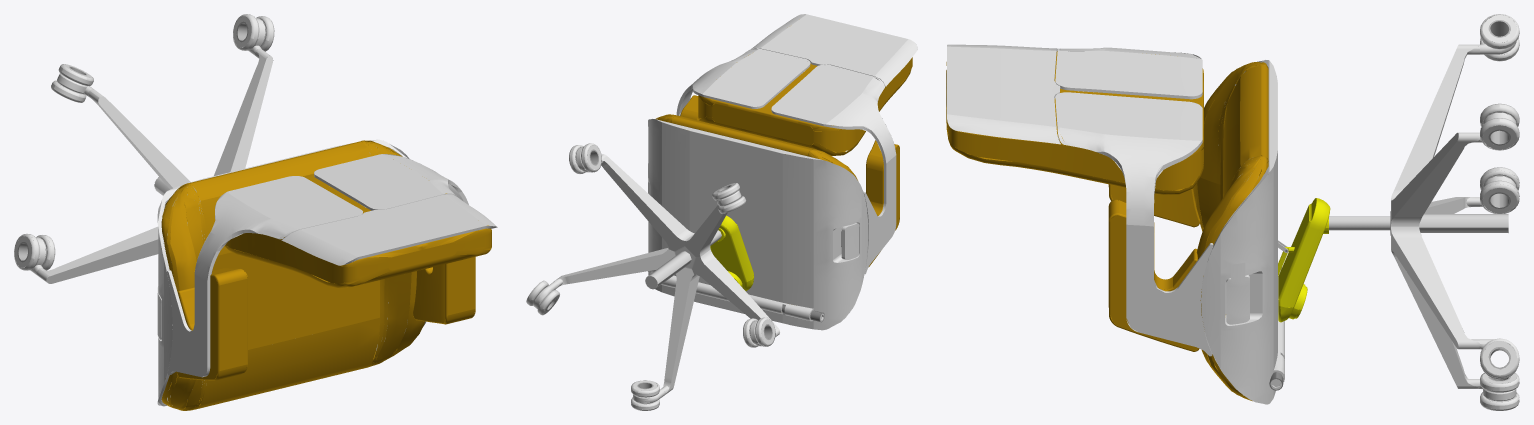
Rendered from crChair.fbx.
The picture shows the model from 3 angles, left to right: view 1: azimuth 30°, elevation 25°; view 2: azimuth 150°, elevation 25°; view 3: azimuth 270°, elevation 25°; orthographic projection. The views are drawn at different scales.
Parts seen in each view (by area): view 1: nurbsToPoly850; view 2: nurbsToPoly850; view 3: nurbsToPoly850.
Boxes of the visible parts, left/top/right/bottom form: nurbsToPoly850: left=14, top=14, right=497, bottom=410; nurbsToPoly850: left=526, top=14, right=917, bottom=410; nurbsToPoly850: left=946, top=14, right=1519, bottom=410.
Bounding box in the file's own units: 71.79 × 70.19 × 108.
